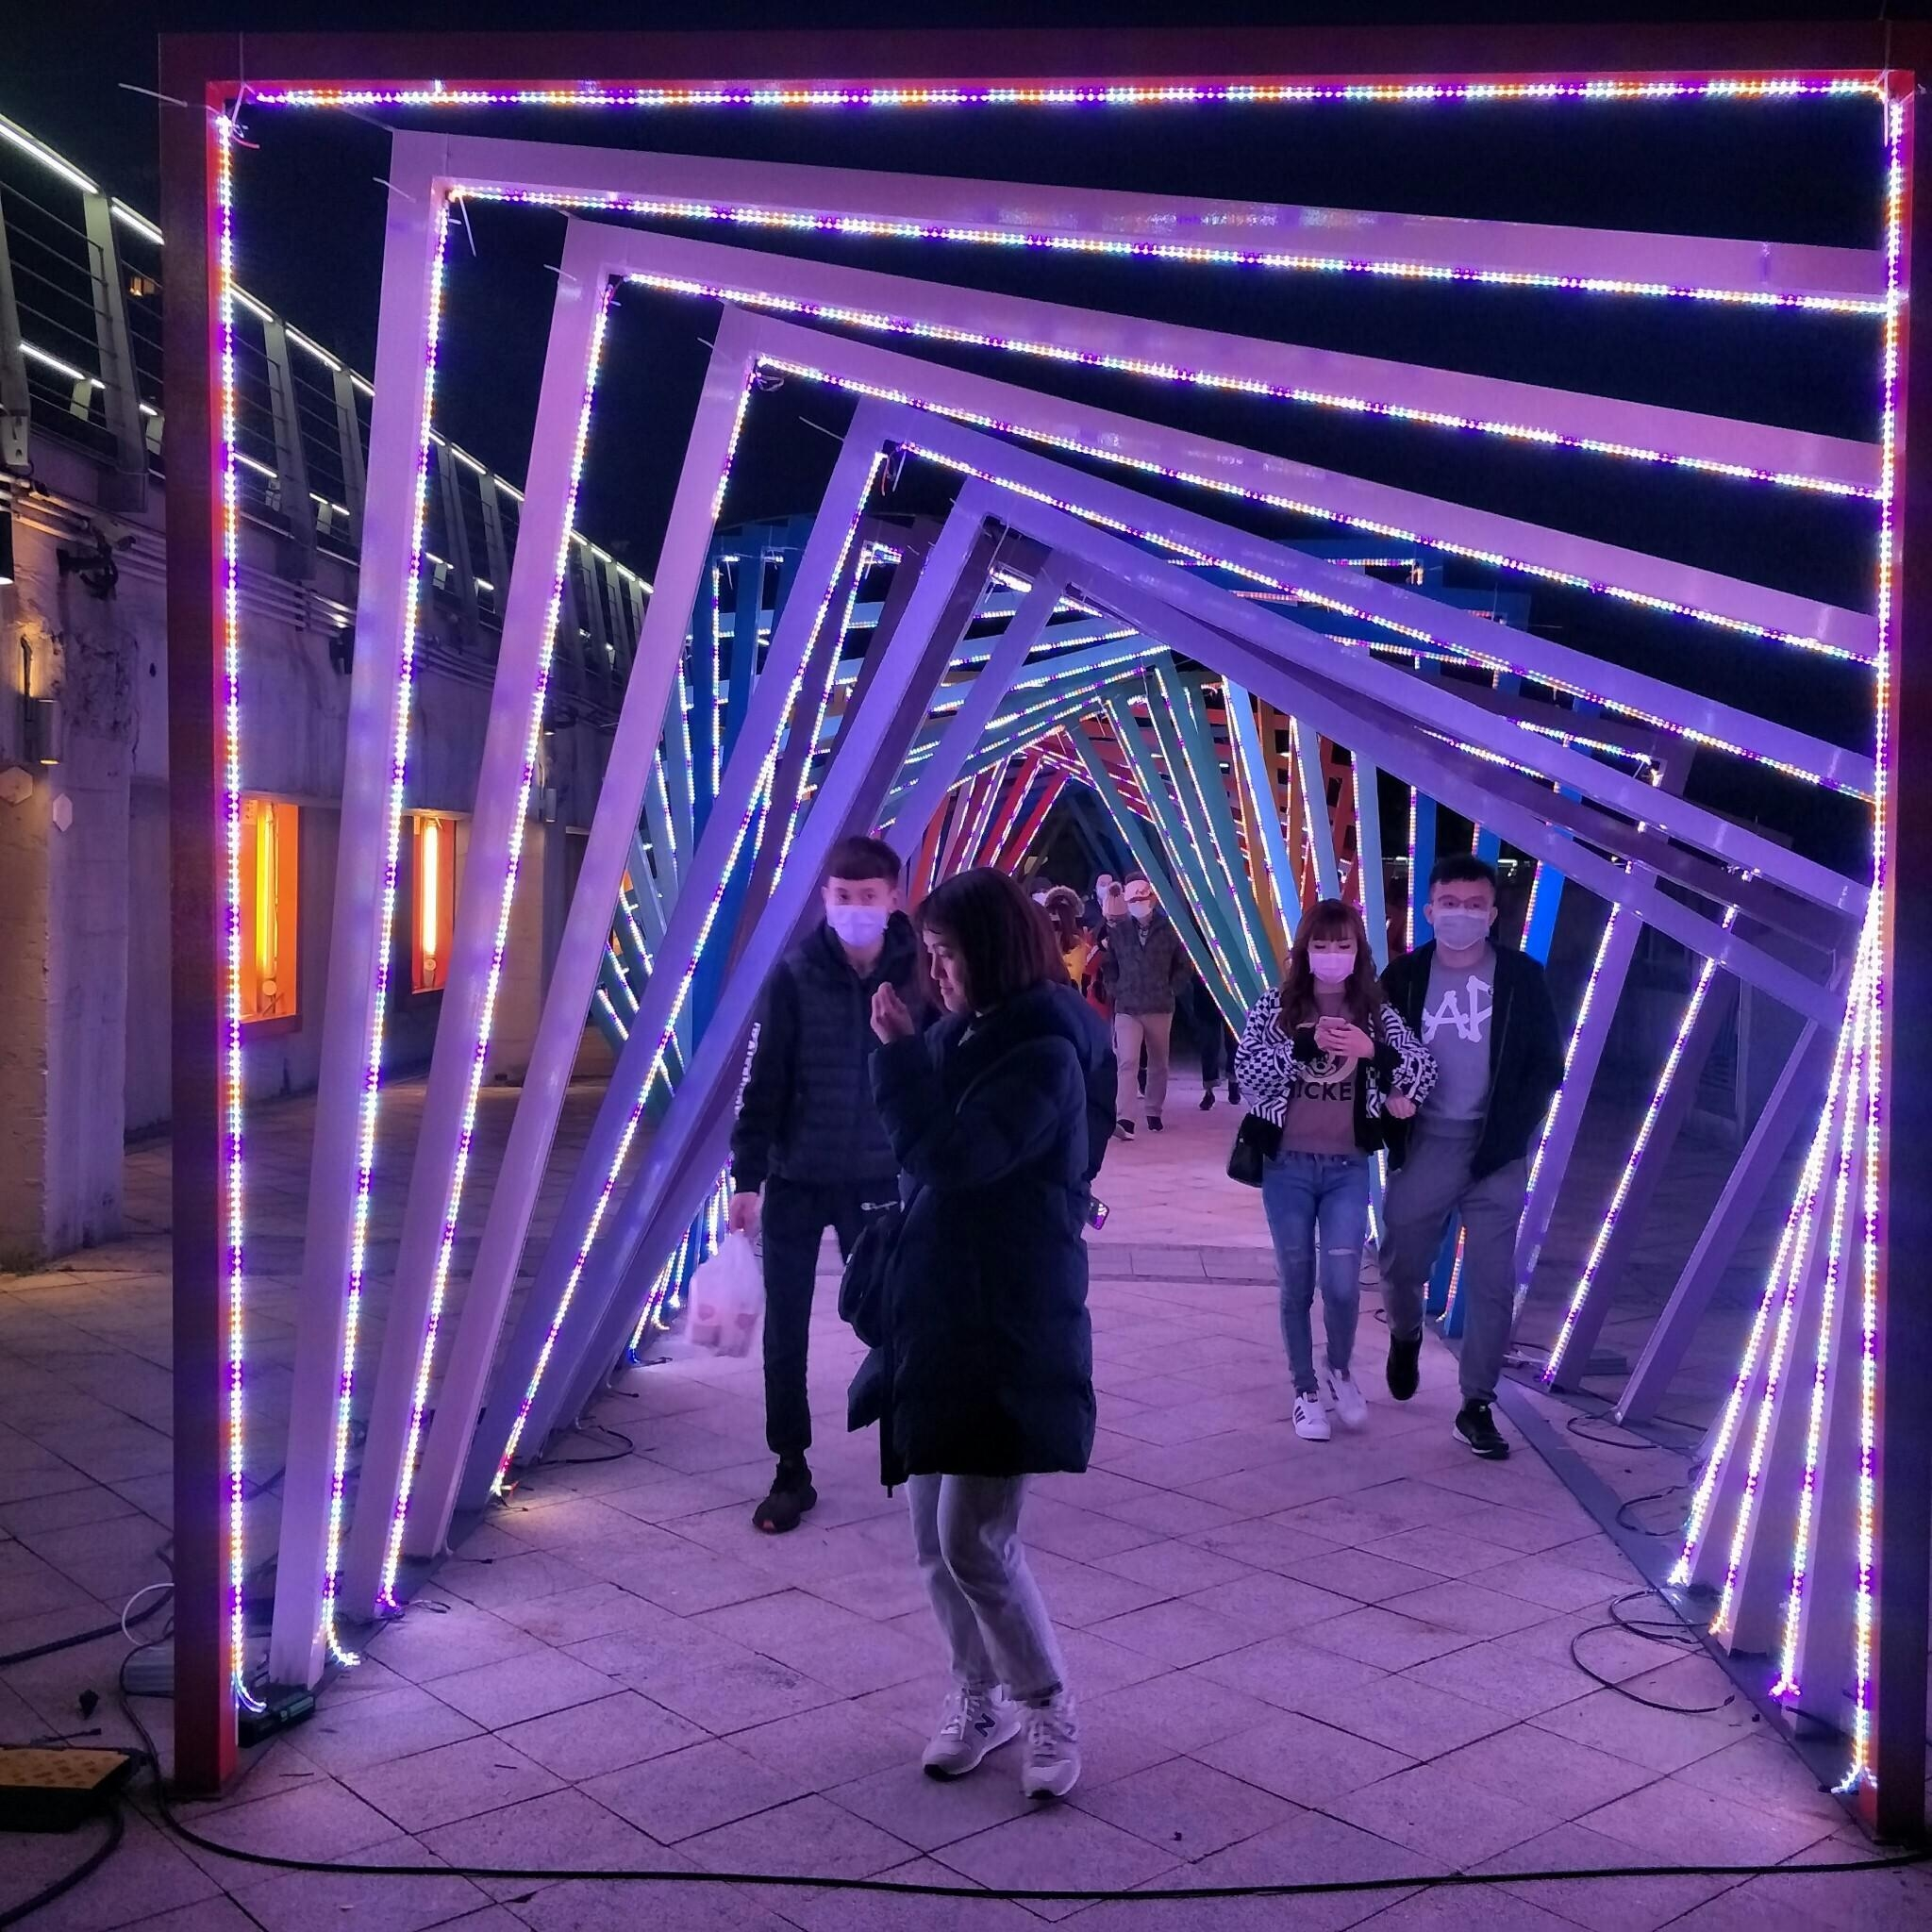people: (882, 858, 1098, 1801), (1378, 858, 1564, 1436), (775, 845, 931, 1503), (1241, 893, 1388, 1439), (1105, 875, 1195, 1143)
